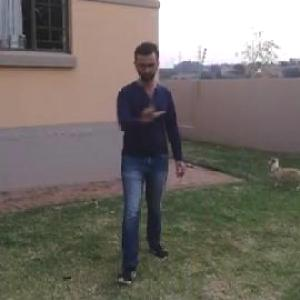land_hand: (134, 92, 166, 126)
